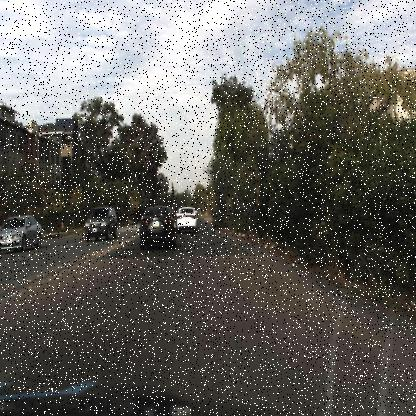car: (134, 197, 176, 256), (82, 195, 122, 248), (1, 216, 44, 258), (82, 204, 118, 245), (171, 201, 200, 244), (164, 217, 176, 241)
